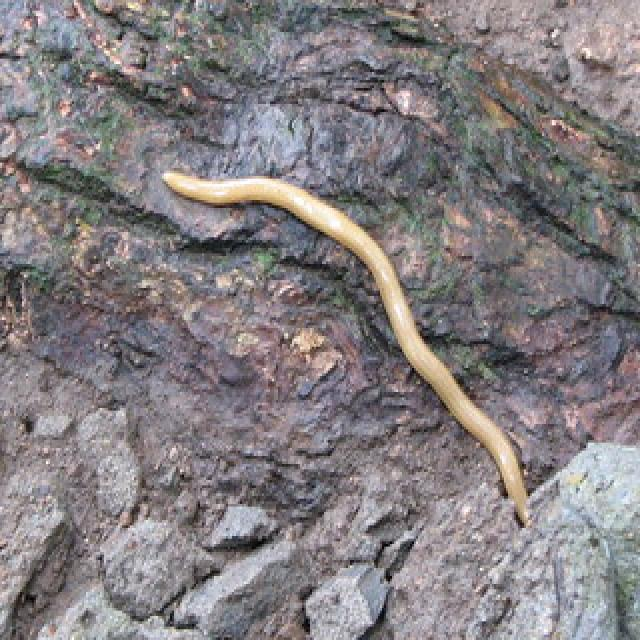snake: (160, 165, 532, 528)
